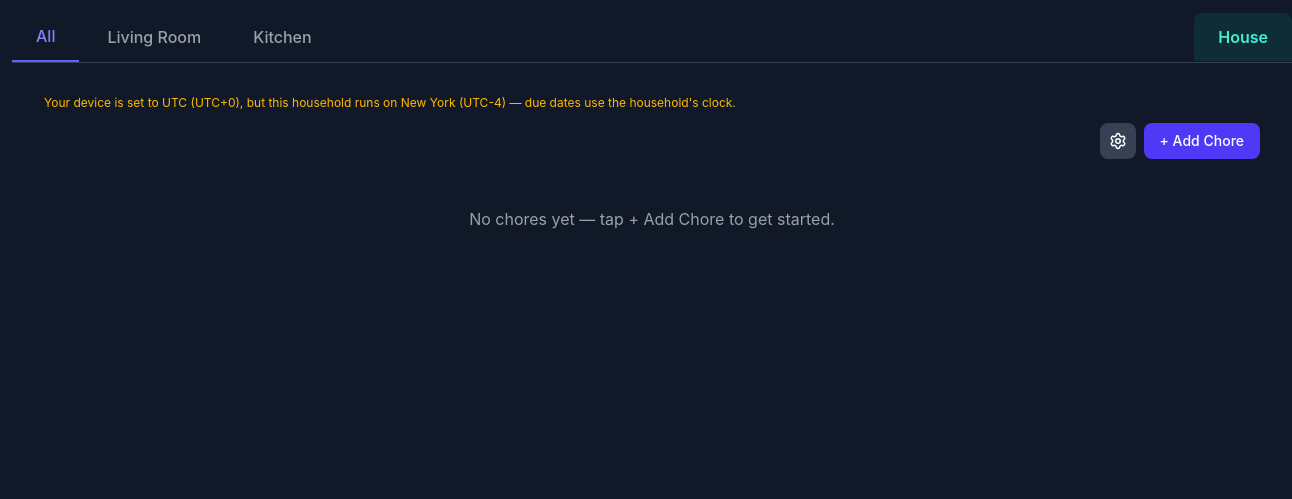
App › admin users directory › does not render the Users directory (or fetch it) for a non-admin
Click the link with test id "admin-nav-link" at (1243, 37), box [1194,13,1291,61]
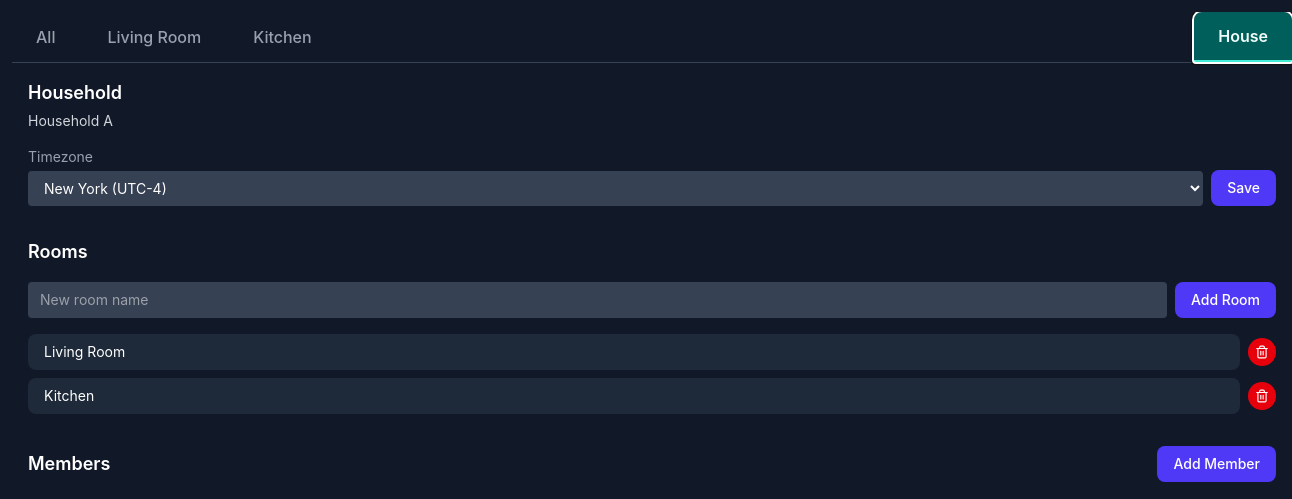
Expected: the heading "Members" is shown, [28,450,110,478]
